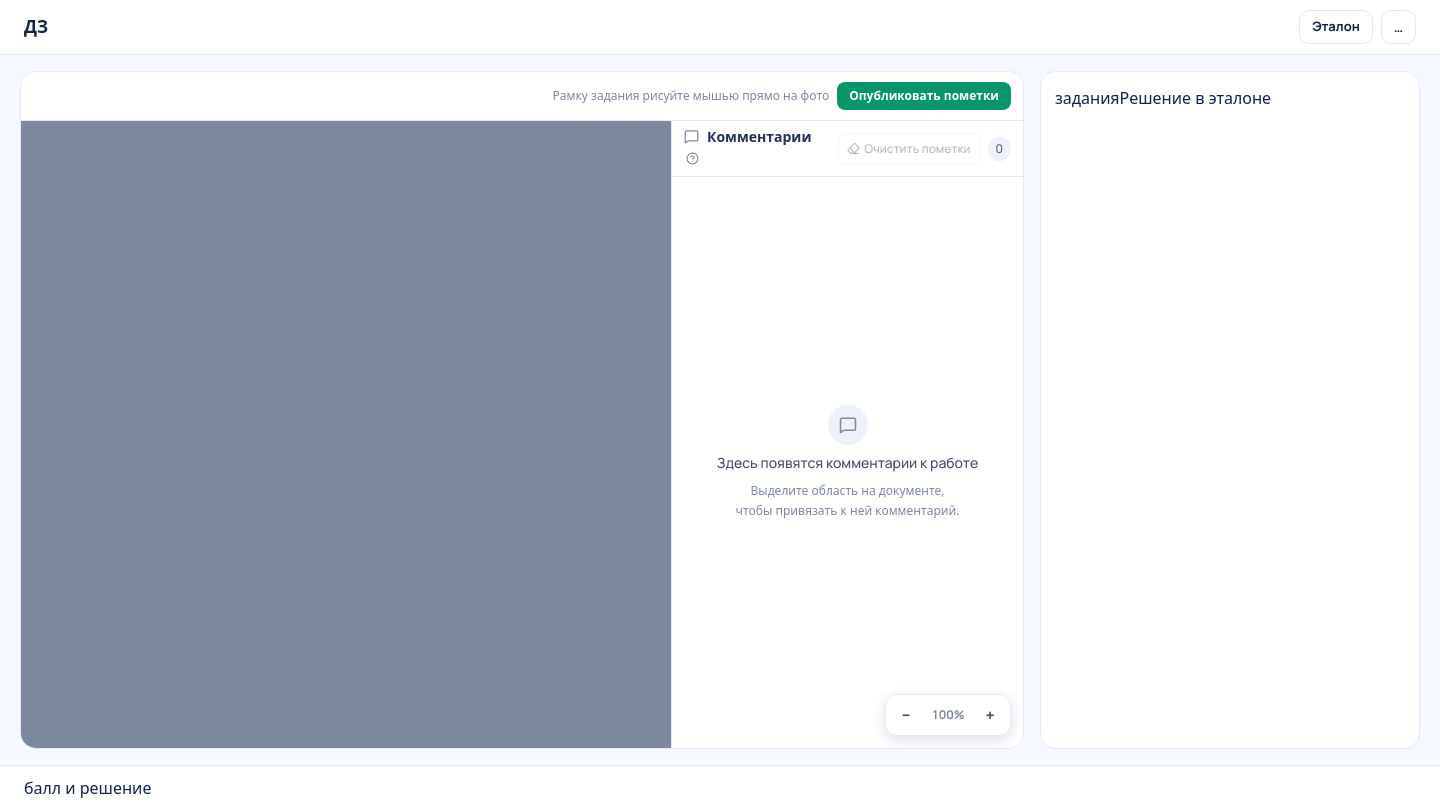
Test case: §248. Эталон по запросу: панель поверх фото или блок снизу › «Эталон снизу, а не сбоку» из меню — блок под заданием, как в §226; и обратно
Step 1. Click the button with test id "attempt-more-menu" → (1398, 27), box [1381,10,1416,44]
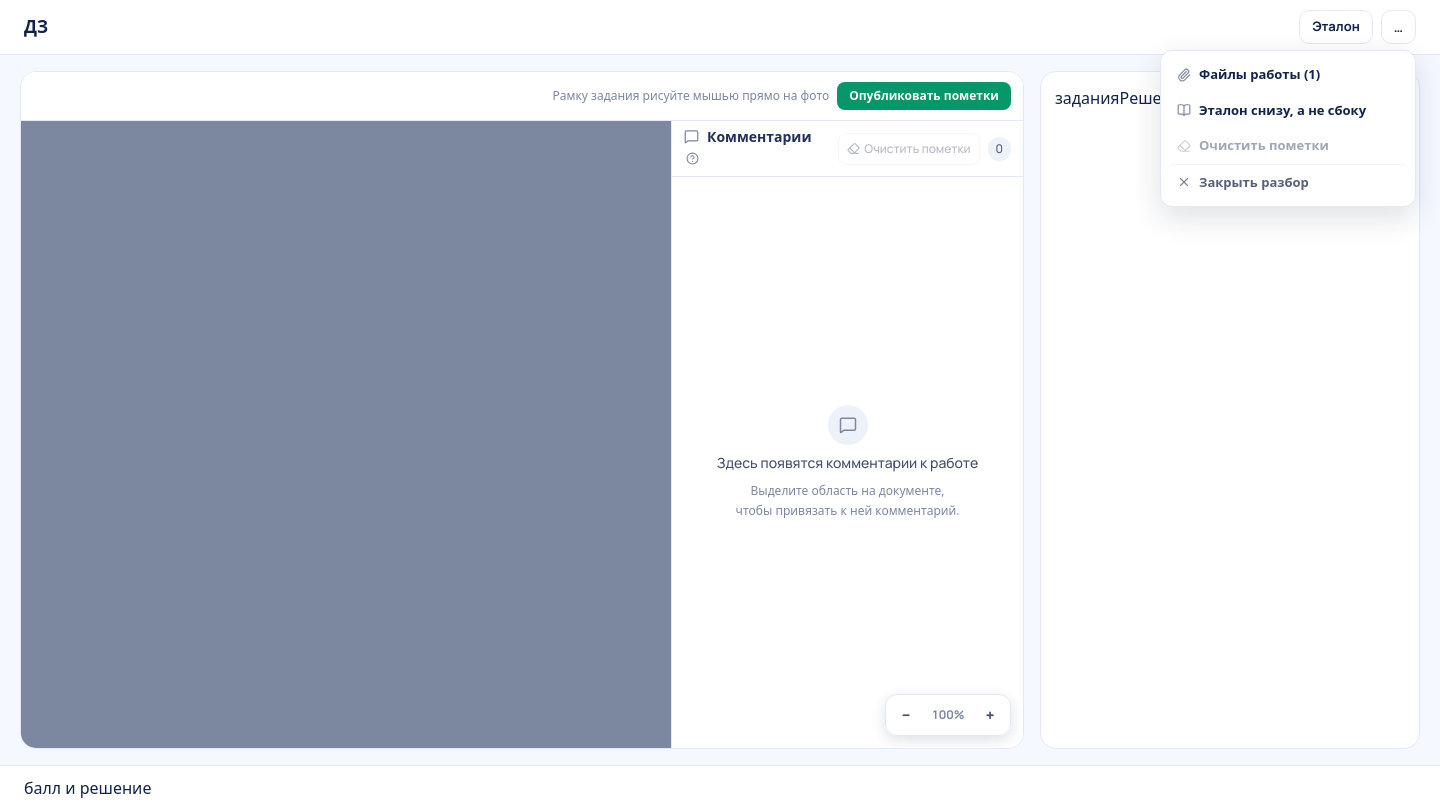
Result: the menu item with test id "reference-placement-toggle" reads "Эталон снизу, а не сбоку"
Step 2. Click the menu item with test id "reference-placement-toggle" → (1288, 110), box [1167,92,1409,128]
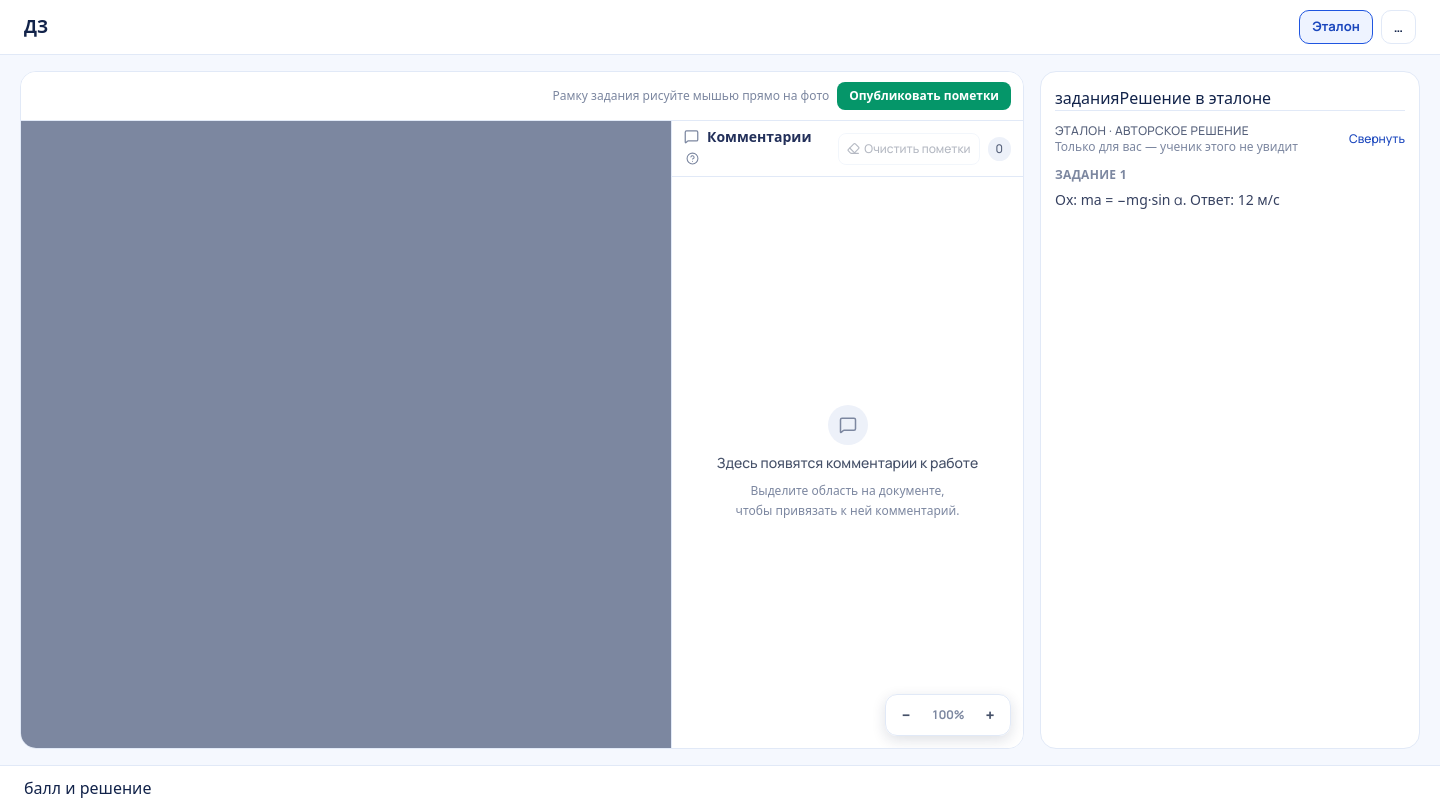
Result: the element with test id "solution-reference-panel" is shown at [1055,110,1405,212]
Result: the text "Ox: ma = −mg·sin α. Ответ: 12 м/с" is shown once at [1055,190,1280,209]
Step 3. Click the button with test id "attempt-reference-toggle" → (1336, 27), box [1299,10,1373,44]
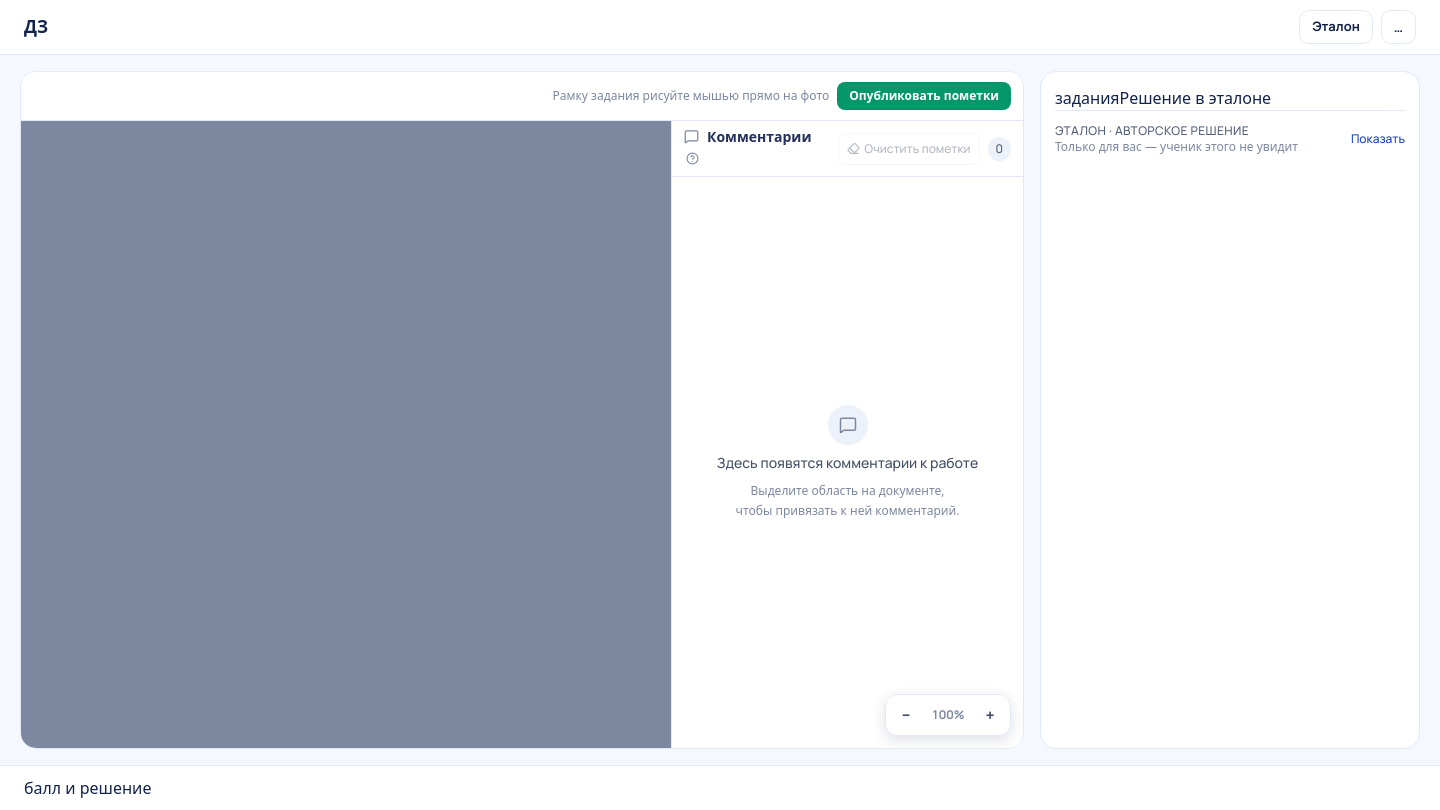
Result: the button with test id "attempt-solution-toggle" is collapsed at [1055,123,1405,155]
Step 4. Click the button with test id "attempt-more-menu" → (1398, 27), box [1381,10,1416,44]
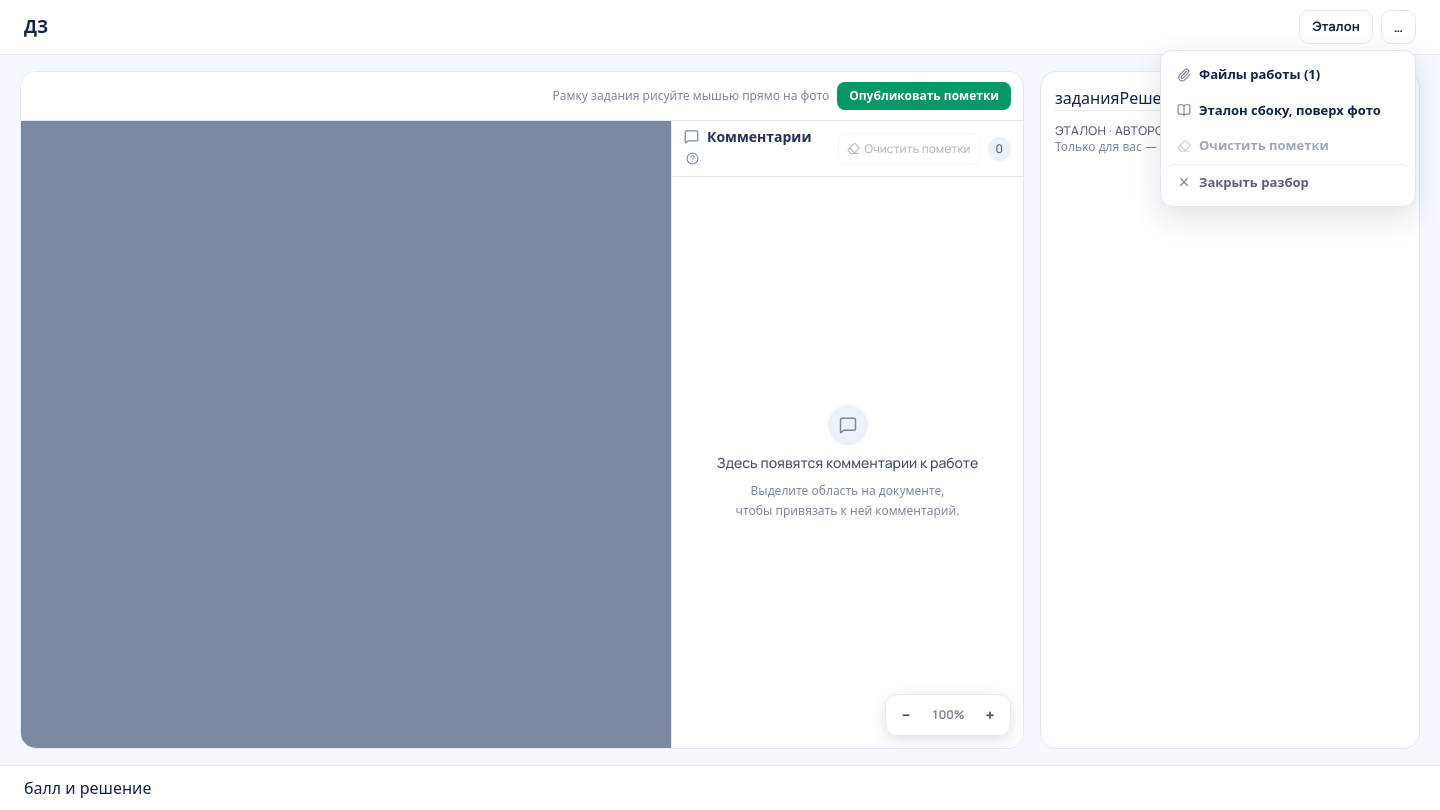
Result: the menu item with test id "reference-placement-toggle" reads "Эталон сбоку, поверх фото"
Step 5. Click the menu item with test id "reference-placement-toggle" → (1288, 110), box [1167,92,1409,128]
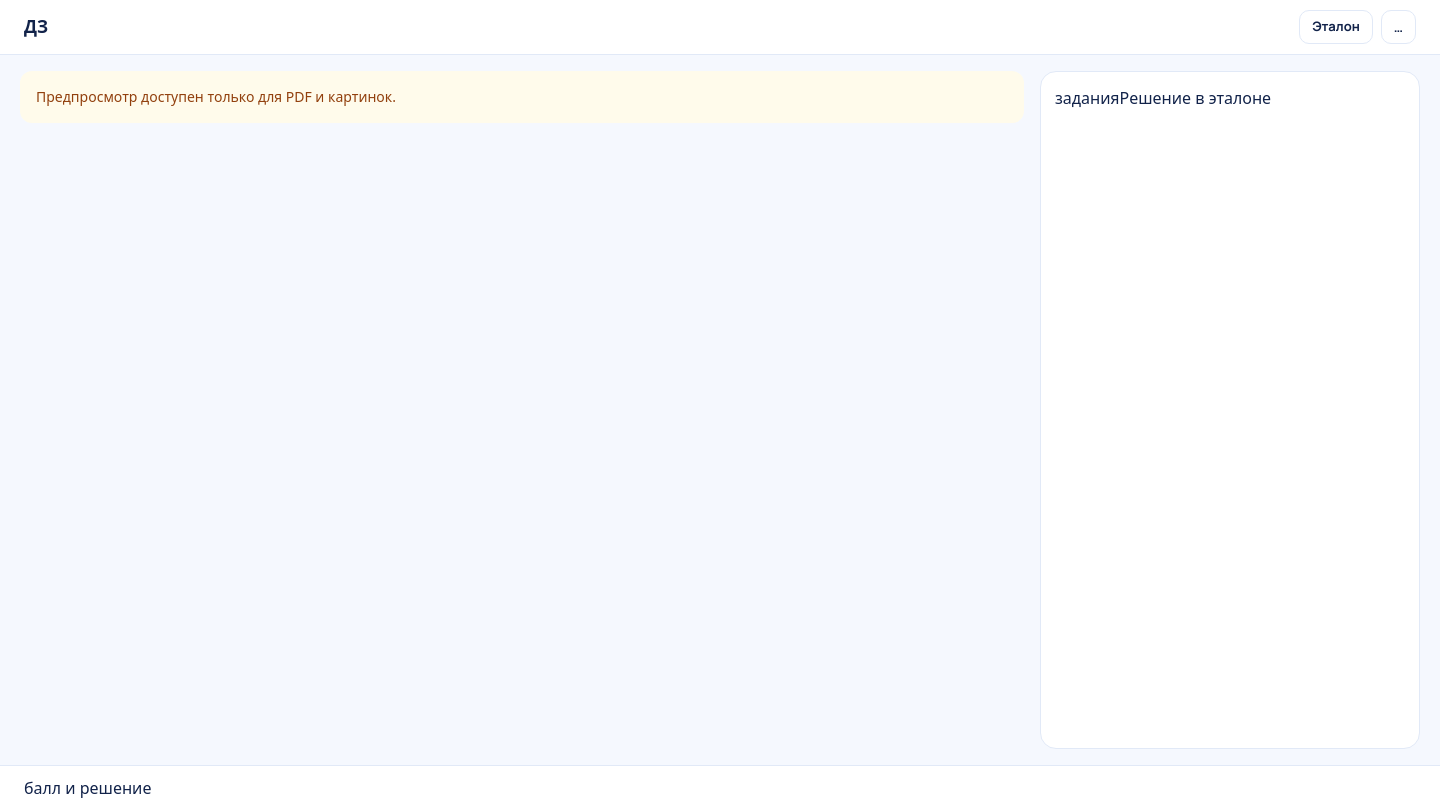
Result: the element with test id "solution-reference-panel" is gone
